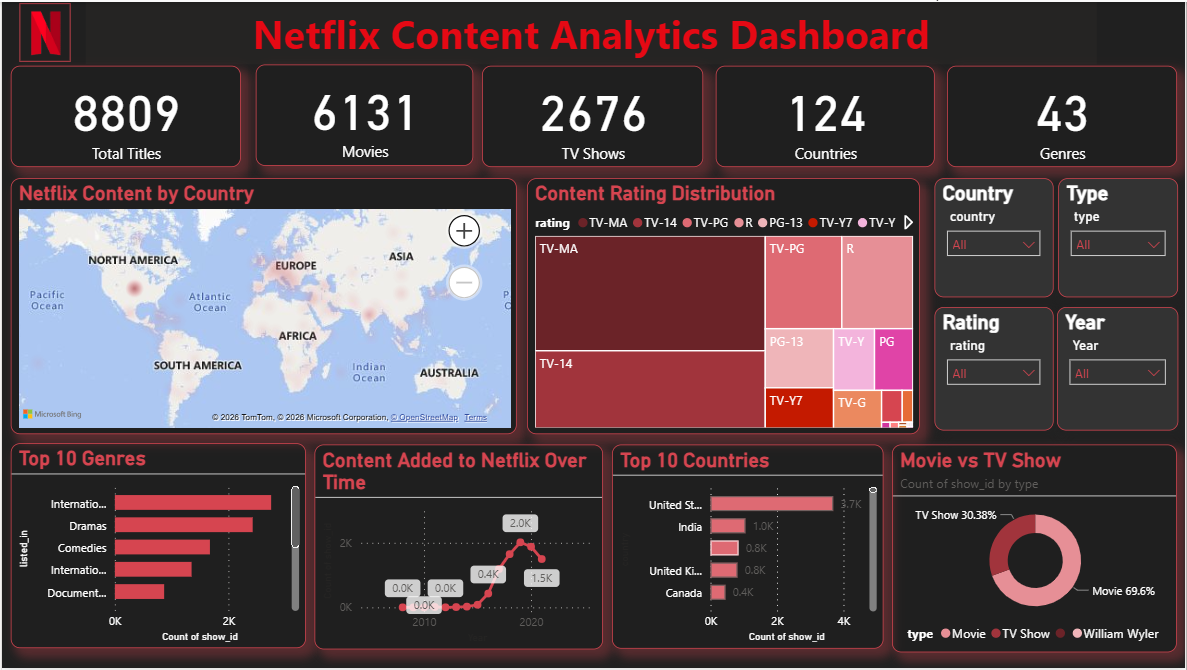

Layout of this report page (visuals, bound fields, positions):
{"tool":"powerbi","page":{"name":"Page 1","canvas":[1280,720],"ordinal":0},"visuals":[{"type":"textbox","box":[90.6,0,1093.7,67.6],"z":0},{"type":"card","fields":{"Values":["netflix_titles.Total Titles"]},"box":[9.5,68.9,248.8,109.5],"z":1000},{"type":"card","fields":{"Values":["netflix_titles.Movies"]},"box":[274.4,67.6,235.2,109.5],"z":2000},{"type":"card","fields":{"Values":["netflix_titles.TV Shows"]},"box":[519.1,68.9,239.3,109.5],"z":3000},{"type":"card","fields":{"Values":["netflix_titles.Countries"]},"box":[772,68.9,236.6,109.5],"z":4000},{"type":"card","fields":{"Values":["netflix_titles.Genres"]},"box":[1022.1,68.9,248.8,109.5],"z":5000},{"type":"donutChart","title":"Movie vs TV Show","fields":{"Category":["netflix_titles.type"],"Y":["Count(netflix_titles.show_id)"]},"box":[962.6,478.6,308.2,224.4],"z":6000},{"type":"clusteredBarChart","title":"Top 10 Genres","fields":{"Category":["netflix_titles.listed_in"],"Y":["Count(netflix_titles.show_id)"]},"box":[9.5,477.2,319.1,221.7],"z":7000},{"type":"map","title":"Netflix Content by Country","fields":{"Size":["CountNonNull(netflix_titles.show_id)"],"Category":["netflix_titles.country"]},"box":[9.5,190.6,547.5,277.1],"z":8000},{"type":"lineChart","title":"Content Added to Netflix Over Time","fields":{"Category":["netflix_titles.Year"],"Y":["Count(netflix_titles.show_id)"]},"box":[338,478.6,312.3,221.7],"z":9000},{"type":"clusteredBarChart","title":"Top 10 Countries","fields":{"Category":["netflix_titles.country"],"Y":["Count(netflix_titles.show_id)"]},"box":[660,478.9,293.7,220.9],"z":10000},{"type":"treemap","title":"Content Rating Distribution","fields":{"Group":["netflix_titles.rating"],"Values":["Count(netflix_titles.show_id)"]},"box":[567.8,190.6,424.5,277.1],"z":11000},{"type":"slicer","title":"Country","fields":{"Values":["netflix_titles.country"]},"box":[1008.5,190.6,128.4,128.4],"z":12000},{"type":"slicer","title":"Type","fields":{"Values":["netflix_titles.type"]},"box":[1142.4,190.6,129.8,128.4],"z":13000},{"type":"slicer","title":"Rating","fields":{"Values":["netflix_titles.rating"]},"box":[1008.5,329.9,128.4,133.8],"z":14000},{"type":"slicer","title":"Year","fields":{"Values":["netflix_titles.Year"]},"box":[1141,329.9,131.1,133.8],"z":15000},{"type":"image","box":[18.9,1.4,55.4,63.5],"z":15001}]}

Visuals, with their boxes in screenshot pixels (x1, y1, x2, y2), scaled from the page's 1280x720 canvas onto the 1187x670 screenshot:
textbox: 84/0/1098/63
card - netflix_titles.Total Titles: 9/64/240/166
card - netflix_titles.Movies: 254/63/473/165
card - netflix_titles.TV Shows: 481/64/703/166
card - netflix_titles.Countries: 716/64/935/166
card - netflix_titles.Genres: 948/64/1179/166
"Movie vs TV Show" donutChart: 893/445/1178/654
"Top 10 Genres" clusteredBarChart: 9/444/305/650
"Netflix Content by Country" map: 9/177/517/435
"Content Added to Netflix Over Time" lineChart: 313/445/603/652
"Top 10 Countries" clusteredBarChart: 612/446/884/651
"Content Rating Distribution" treemap: 527/177/920/435
"Country" slicer: 935/177/1054/297
"Type" slicer: 1059/177/1180/297
"Rating" slicer: 935/307/1054/431
"Year" slicer: 1058/307/1180/431
image: 18/1/69/60
